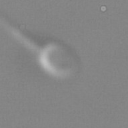normal: (1, 13, 42, 53)
